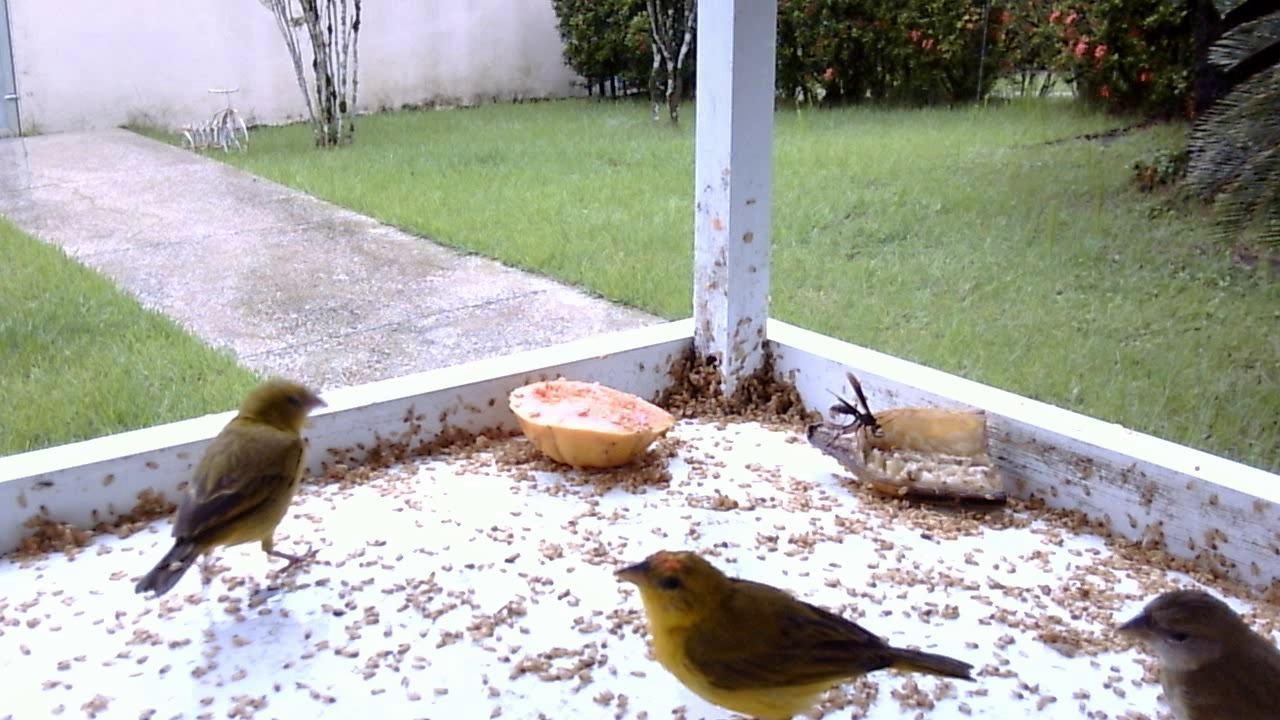canario_do_amazonas: (602, 548, 977, 720), (126, 371, 332, 604), (1109, 576, 1276, 716)
